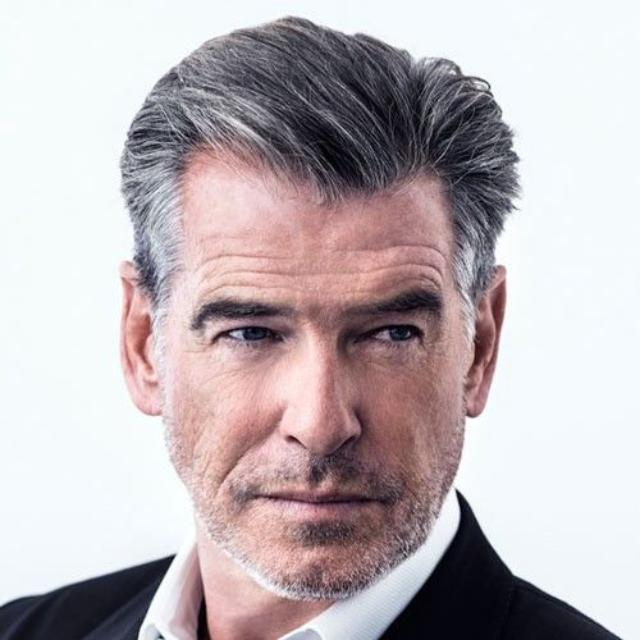forehead: (198, 247, 246, 289), (255, 247, 289, 293), (412, 242, 446, 284)
gummy_smile: (215, 442, 245, 493)
